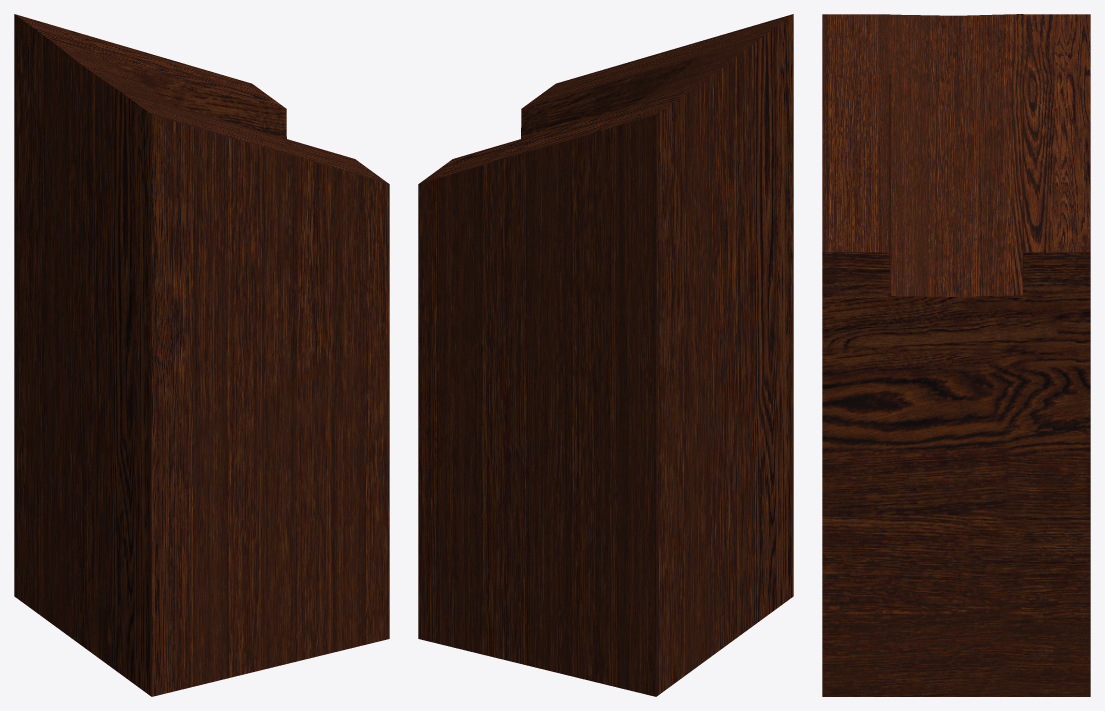
The model's file is tableWithButton.fbx.
3 renders of one model, left to right at view 1: azimuth 30°, elevation 25°; view 2: azimuth 150°, elevation 25°; view 3: azimuth 270°, elevation 25°, orthographic. The views are drawn at different scales.
Visible parts, largest first — view 1: Cube; view 2: Cube; view 3: Cube.
Part boxes in pixels (<box>): Cube: <box>14,14,389,696</box>; Cube: <box>418,14,793,696</box>; Cube: <box>822,14,1090,696</box>.
Size of the model in its own units: 2 by 4.68 by 2.
